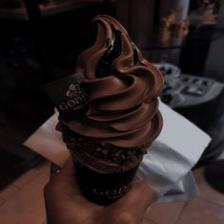brown: (47, 15, 164, 205)
